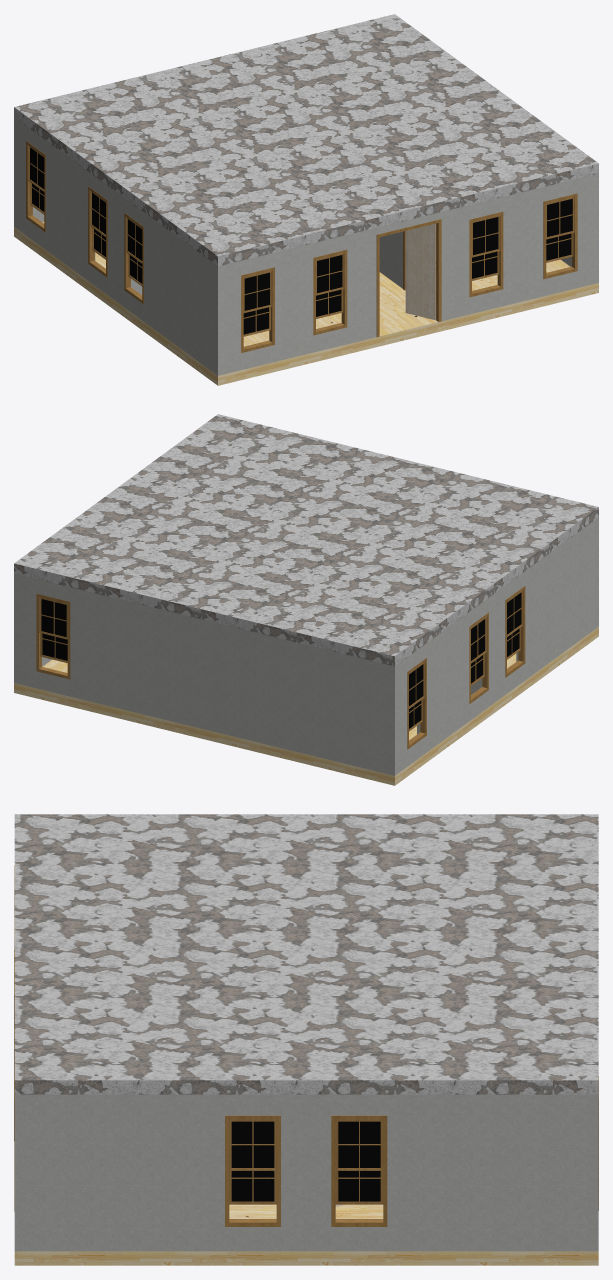
Rendered from Export_GI House.fbx.
3 renders of one model, top to bottom at view 1: azimuth 30°, elevation 25°; view 2: azimuth 150°, elevation 25°; view 3: azimuth 270°, elevation 25°, orthographic. The views are drawn at different scales.
Parts seen in each view (by area): view 1: Ceiling, Walls, Door Frame, Floor, Glass, Door; view 2: Ceiling, Walls, Floor, Door Frame, Glass; view 3: Ceiling, Walls, Floor, Glass, Door Frame.
Boxes of the visible parts, x1,y1,x2,y2 form: Ceiling: (14, 14, 598, 266); Walls: (14, 117, 598, 375); Door Frame: (26, 141, 577, 352); Floor: (14, 222, 598, 385); Glass: (30, 147, 572, 334); Door: (405, 223, 435, 319); Ceiling: (14, 414, 598, 666); Walls: (14, 517, 598, 775); Floor: (14, 627, 598, 785); Door Frame: (36, 586, 525, 749); Glass: (41, 593, 521, 728); Ceiling: (14, 814, 598, 1094); Walls: (14, 1094, 598, 1251); Floor: (14, 1204, 598, 1265); Glass: (231, 1121, 380, 1201); Door Frame: (14, 866, 598, 1226).
Size of the model in its own units: 12140 by 11268 by 3937.
6 materials, 5 textured.
